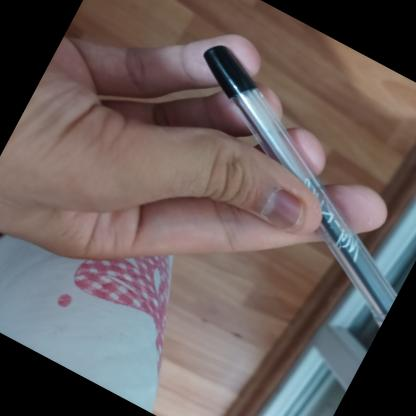pencil: (201, 40, 397, 327)
